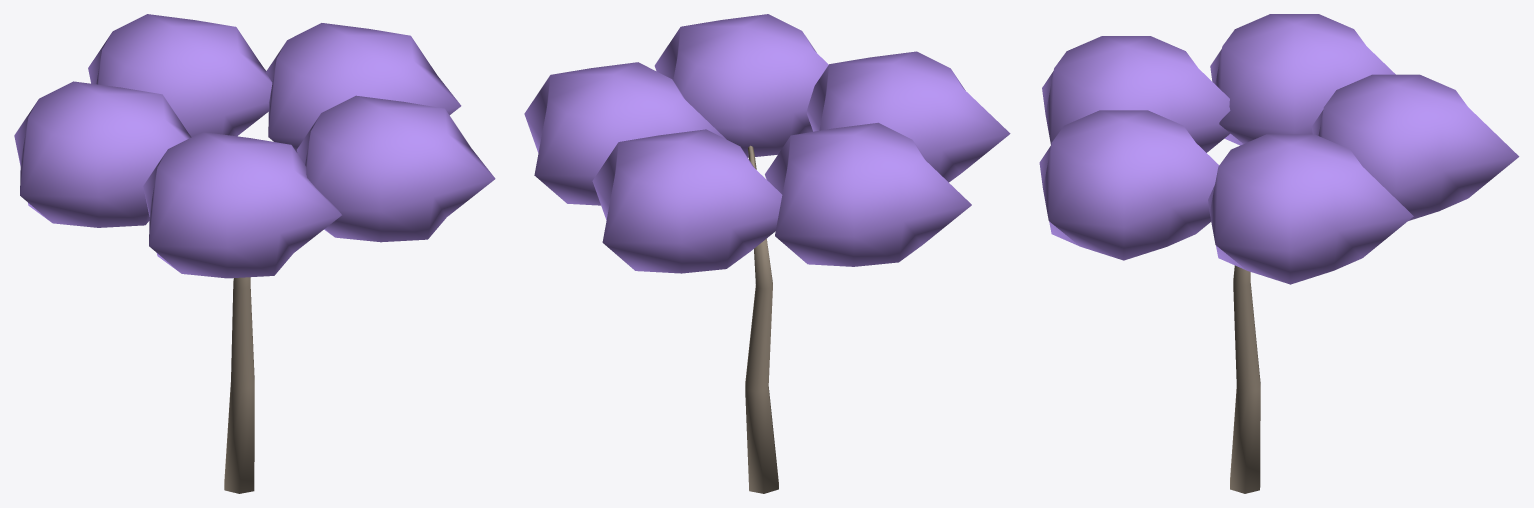
Rendered from tree_jacaranda.glb.
3 renders of one model, left to right at view 1: azimuth 30°, elevation 25°; view 2: azimuth 150°, elevation 25°; view 3: azimuth 270°, elevation 25°, orthographic.
Parts seen in each view (by area): view 1: Flora_Jacaranda; view 2: Flora_Jacaranda; view 3: Flora_Jacaranda.
Boxes of the visible parts, bbox=[...] form: Flora_Jacaranda: bbox=[14, 14, 495, 493]; Flora_Jacaranda: bbox=[524, 14, 1010, 493]; Flora_Jacaranda: bbox=[1039, 14, 1519, 493].
Bounding box in the file's own units: 8.09 × 7.17 × 7.69.
